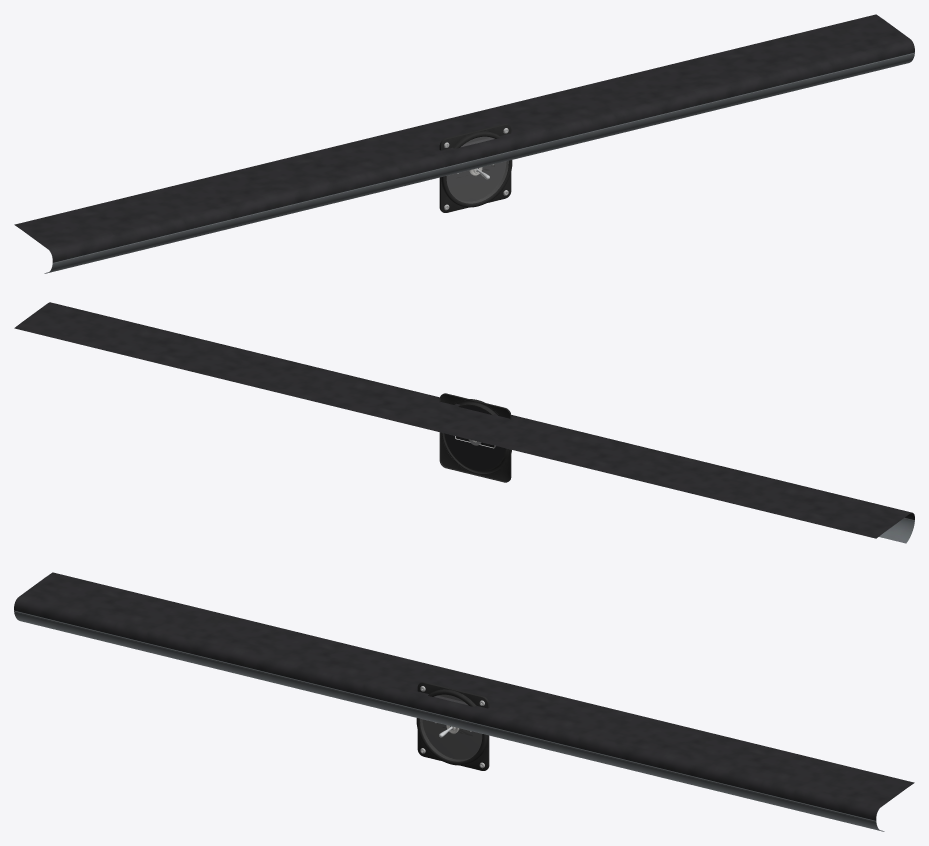
File: dashboard-kit.glb
The picture shows the model from 3 angles, top to bottom: view 1: azimuth 30°, elevation 25°; view 2: azimuth 150°, elevation 25°; view 3: azimuth 330°, elevation 25°; orthographic projection.
Parts seen in each view (by area): view 1: PanelEdge, Gauge_Bezel, Gauge_Glass, Gauge_Face; view 2: PanelEdge, Gauge_Bezel, Gauge_Face; view 3: PanelEdge, Gauge_Bezel, Gauge_Glass, Gauge_Face.
Boxes of the visible parts, bbox=[...] form: PanelEdge: bbox=[14, 14, 914, 273]; Gauge_Bezel: bbox=[439, 124, 512, 212]; Gauge_Glass: bbox=[447, 137, 508, 203]; Gauge_Face: bbox=[446, 136, 505, 200]; PanelEdge: bbox=[14, 302, 914, 543]; Gauge_Bezel: bbox=[439, 393, 511, 482]; Gauge_Face: bbox=[445, 406, 504, 469]; PanelEdge: bbox=[14, 572, 914, 831]; Gauge_Bezel: bbox=[416, 682, 489, 770]; Gauge_Glass: bbox=[420, 695, 481, 761]; Gauge_Face: bbox=[423, 694, 482, 758].
Bounding box in the file's own units: 1 × 0.082 × 0.0878.
Materials: 8 (5 with a texture image).
